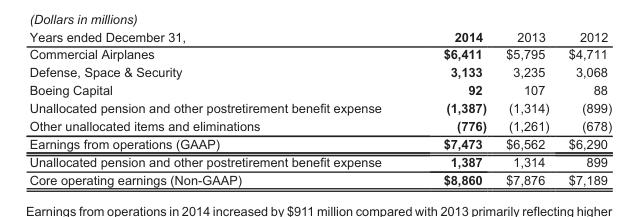table: (28, 29, 611, 186)
table column: (28, 29, 411, 186), (411, 29, 495, 186), (495, 29, 558, 186), (558, 29, 611, 186)
table column header: (28, 29, 611, 45)
table row: (28, 62, 611, 80), (28, 80, 611, 98), (28, 98, 611, 116), (28, 116, 611, 134), (28, 134, 611, 152), (28, 152, 611, 170), (28, 45, 611, 62), (28, 29, 611, 45), (28, 170, 611, 186)
